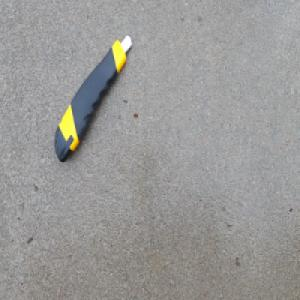Cutter: (54, 31, 134, 163)
